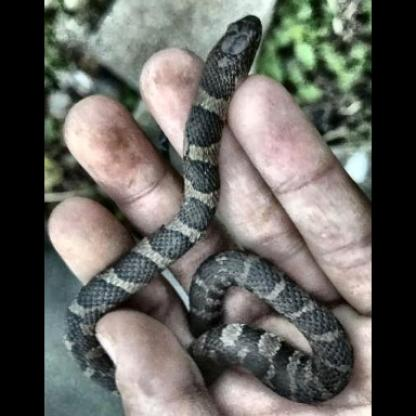Snake: (59, 8, 366, 415)
